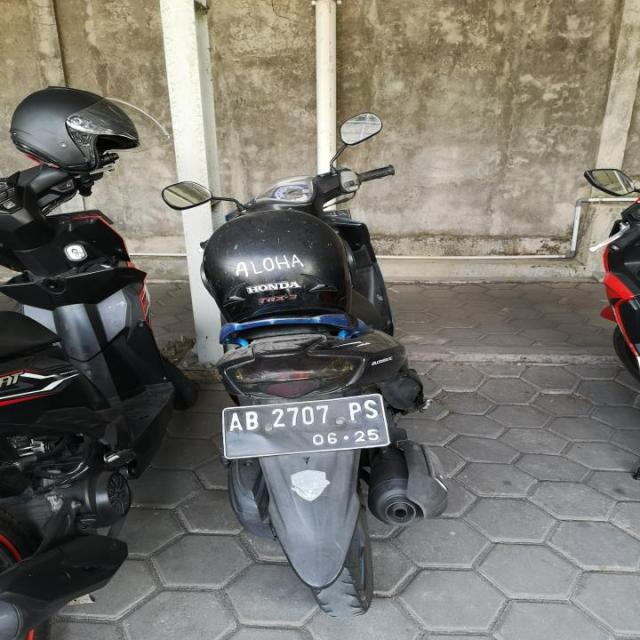License Plate: (220, 390, 392, 463)
